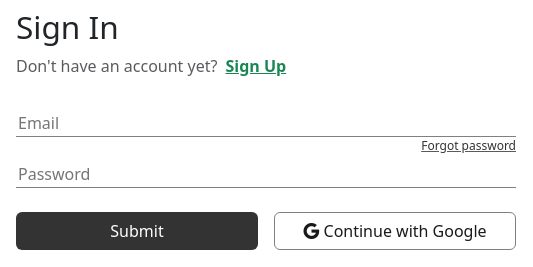
Test: shows validation errors
Step 1. Click the button "Submit" → click(137, 231), box [16,212,258,250]
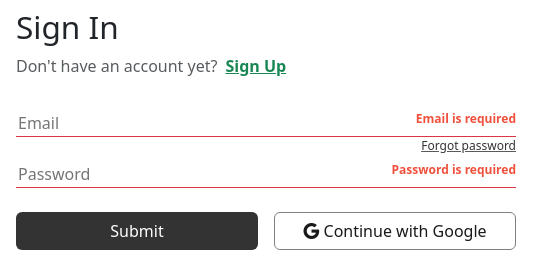
Expected: the text "Email is required" is shown, [416,110,516,128]
Expected: the text "Password is required" is shown, [392,161,516,179]
